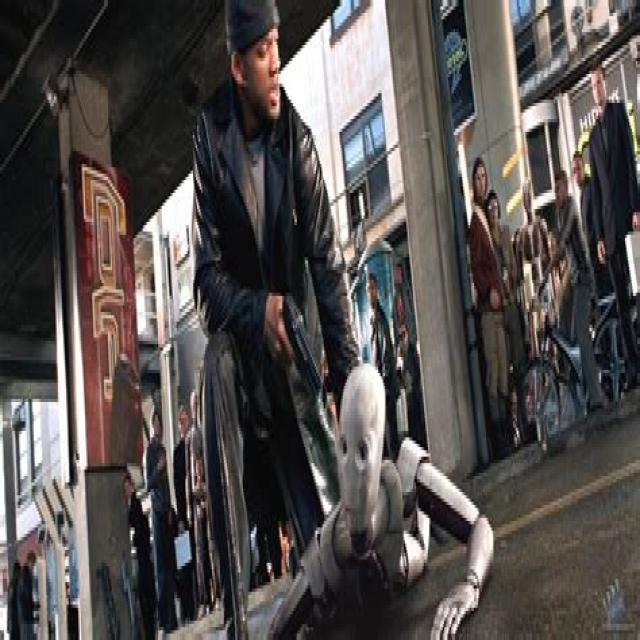weapons: (262, 262, 333, 424)
